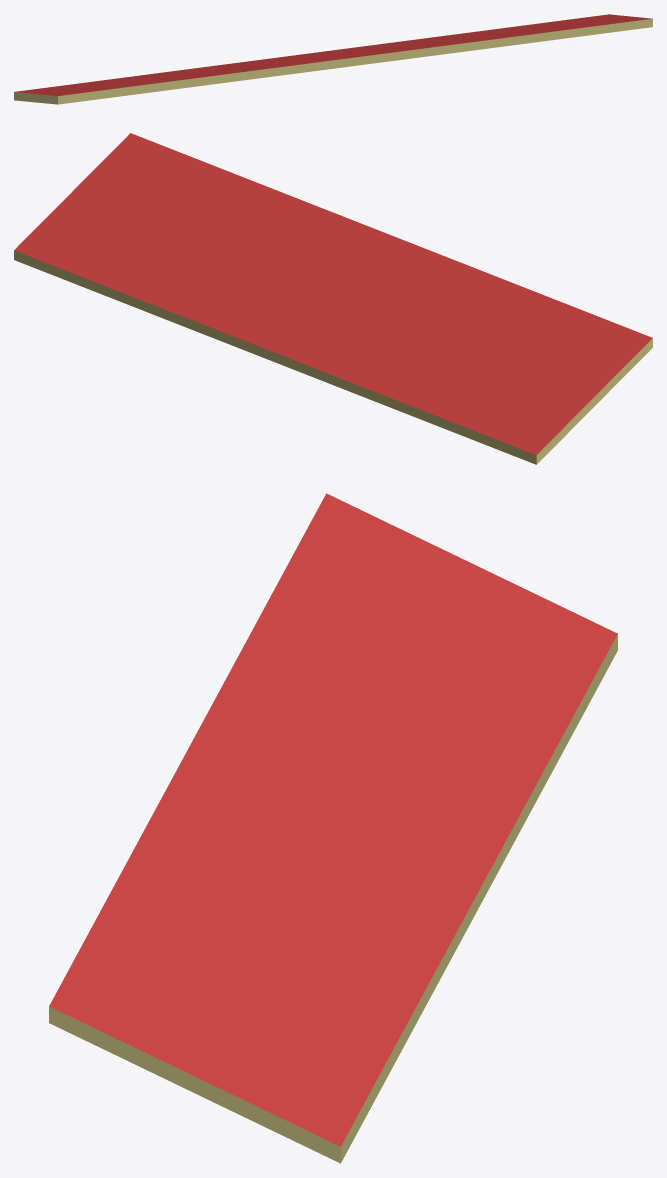
The picture shows the model from 3 angles, top to bottom: view 1: azimuth 30°, elevation 25°; view 2: azimuth 150°, elevation 25°; view 3: azimuth 270°, elevation 25°; orthographic projection. The views are drawn at different scales.
Size of the model in its own units: 6.86 by 3.05 by 0.764.
